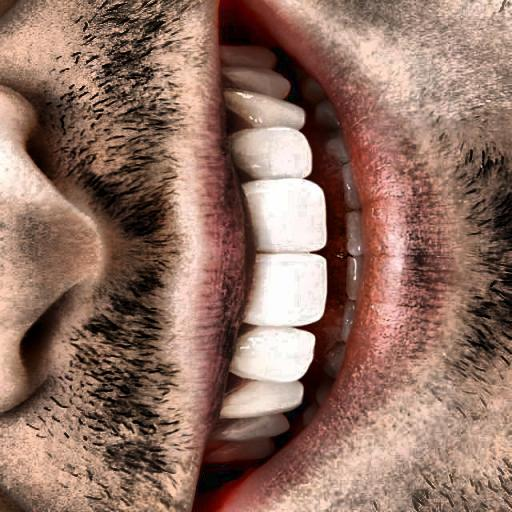Healthy: (170, 45, 395, 445)
